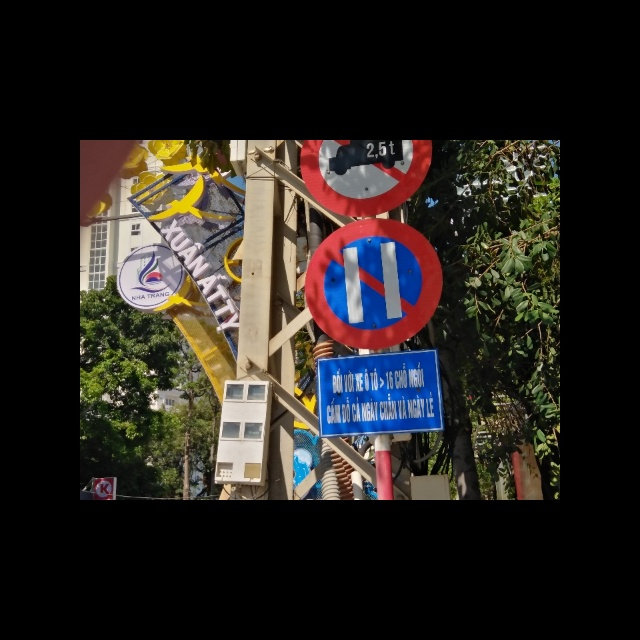Cấm đỗ xe ngày chẵn: (300, 216, 446, 356)
